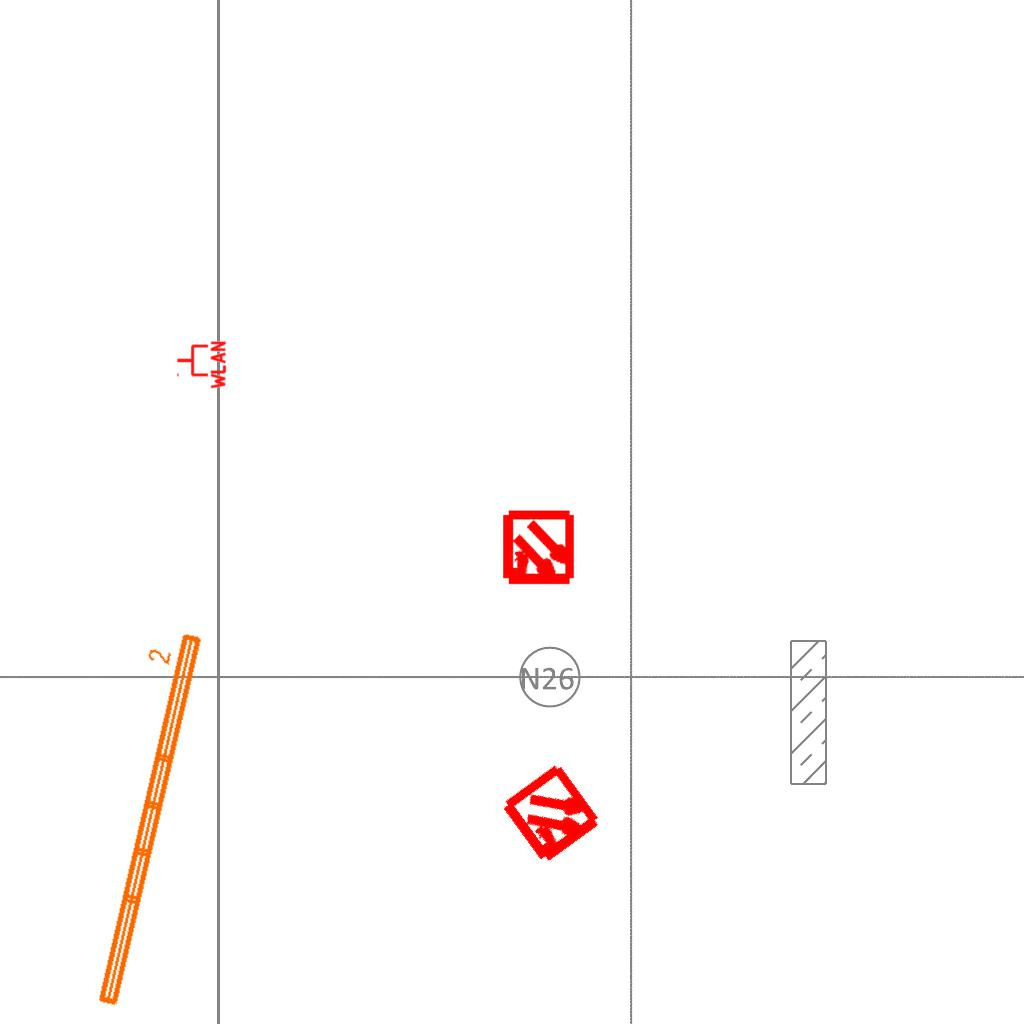Ambulanz_Pendelleuchte_LED: (66, 622, 209, 1012)
OT_Multisensormelder_(Kombination_RMO_WMD): (473, 736, 632, 895), (482, 493, 595, 606)
WLAN: (175, 339, 227, 391)
